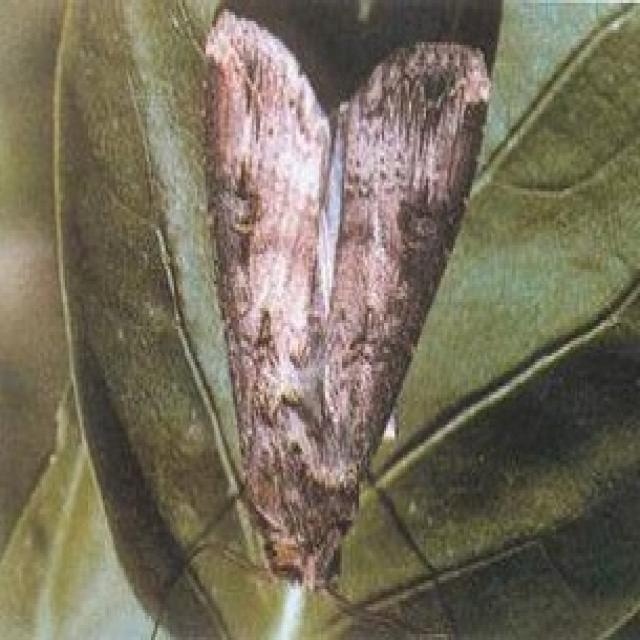black cutworm: (155, 16, 497, 596)
